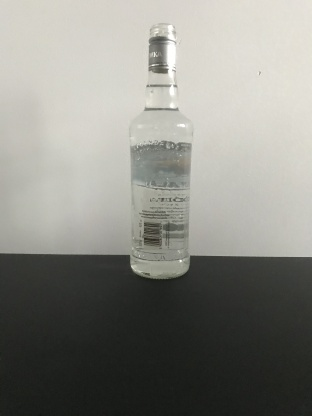nakretka: (146, 22, 178, 73)
